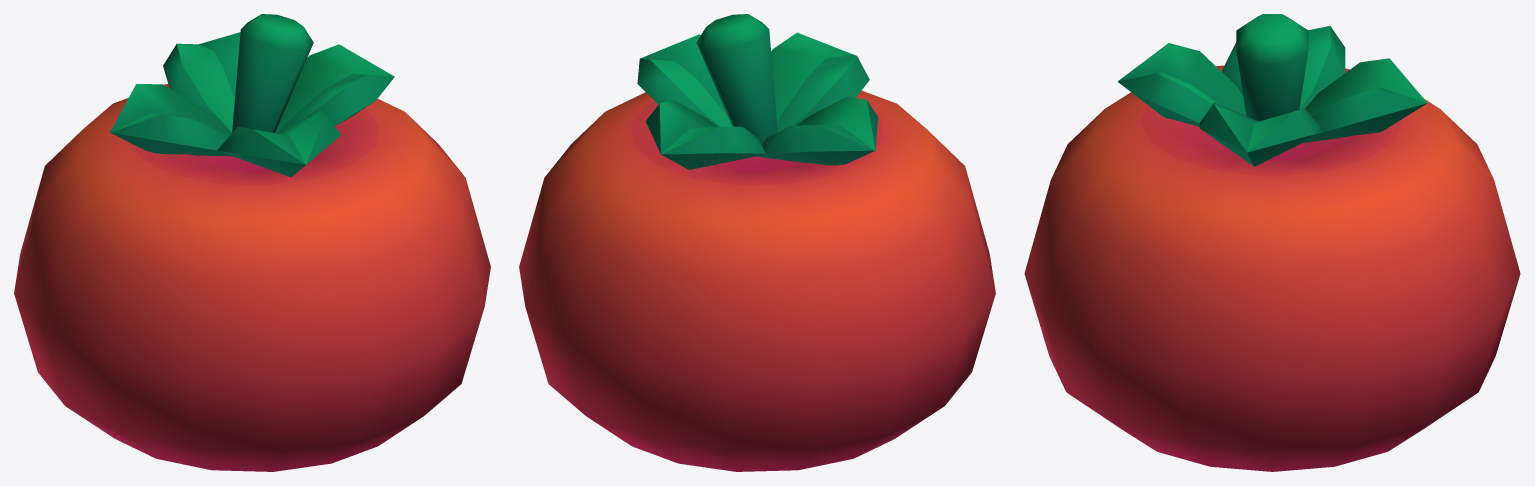
File: tomato.glb
3 renders of one model, left to right at view 1: azimuth 30°, elevation 25°; view 2: azimuth 150°, elevation 25°; view 3: azimuth 270°, elevation 25°, orthographic. The views are drawn at different scales.
Parts seen in each view (by area): view 1: food_ingredient_tomato; view 2: food_ingredient_tomato; view 3: food_ingredient_tomato.
Boxes of the visible parts, x1,y1,x2,y2 form: food_ingredient_tomato: [14, 14, 490, 471]; food_ingredient_tomato: [519, 14, 995, 471]; food_ingredient_tomato: [1024, 14, 1520, 471].
Size of the model in its own units: 0.75 by 0.7 by 0.75.
Materials: 1 (1 with a texture image).
